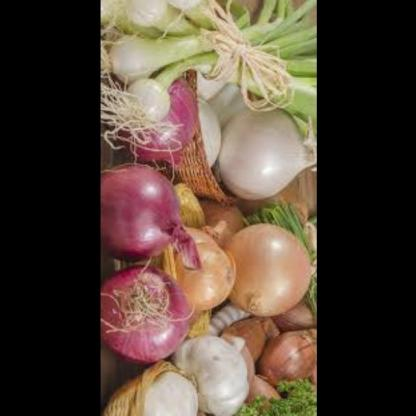onion: (213, 101, 317, 195), (219, 219, 317, 316), (101, 264, 192, 366), (101, 162, 192, 262), (175, 328, 270, 416), (168, 230, 244, 314), (133, 84, 201, 168), (100, 365, 210, 416), (102, 10, 168, 87), (259, 323, 317, 389), (186, 90, 233, 169), (121, 76, 176, 130)
